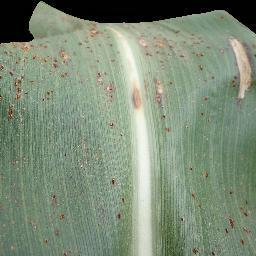Corn_Common_Rust: (0, 2, 116, 121), (139, 5, 255, 106), (106, 175, 128, 224), (51, 191, 65, 255), (183, 241, 221, 256), (125, 78, 140, 111), (239, 225, 256, 252), (160, 108, 174, 137), (193, 107, 215, 125), (220, 212, 231, 239), (242, 196, 252, 223), (184, 162, 197, 177), (201, 169, 214, 183), (187, 190, 200, 204), (178, 213, 191, 227), (99, 121, 121, 129), (227, 188, 237, 202), (42, 234, 51, 248), (60, 151, 69, 160)
